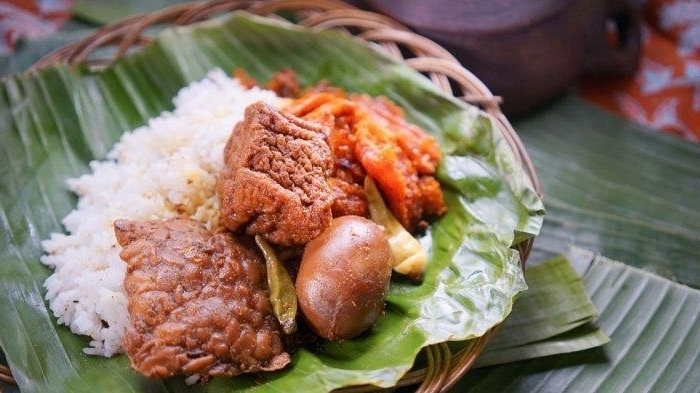gudeg: (44, 71, 447, 380)
